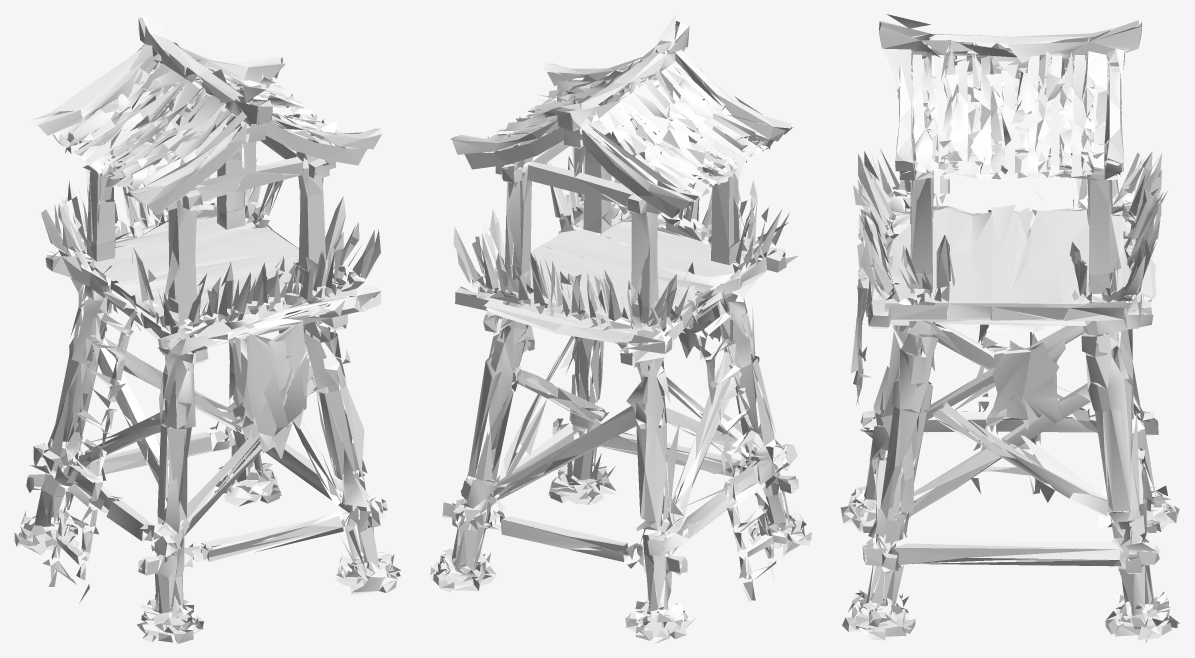
File: watch_tower_lod1.glb
The picture shows the model from 3 angles, left to right: view 1: azimuth 30°, elevation 25°; view 2: azimuth 150°, elevation 25°; view 3: azimuth 270°, elevation 25°; orthographic projection. The views are drawn at different scales.
Parts seen in each view (by area): view 1: watch_tower; view 2: watch_tower; view 3: watch_tower.
Boxes of the visible parts, bbox=[...] form: watch_tower: bbox=[14, 14, 400, 643]; watch_tower: bbox=[430, 14, 811, 643]; watch_tower: bbox=[840, 14, 1179, 643].
Size of the model in its own units: 6.94 by 12.35 by 6.74.
1 material, 1 textured.
